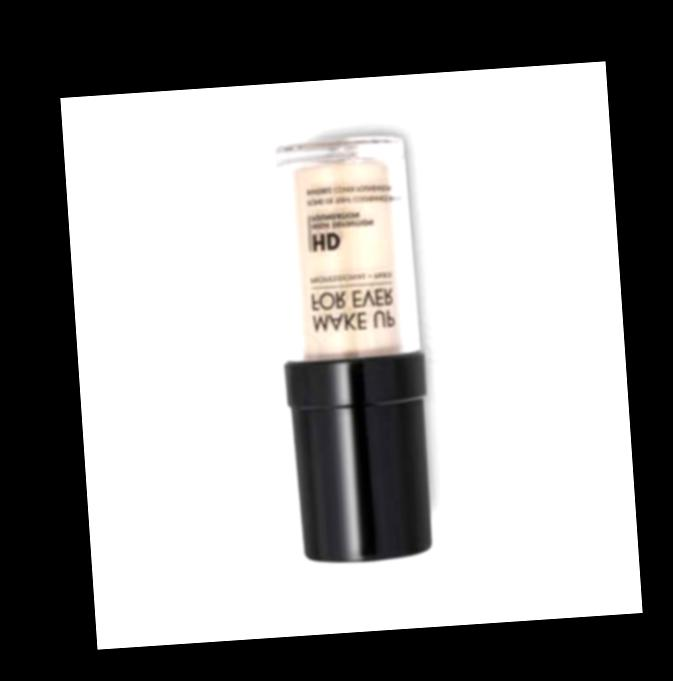cosmetic: (264, 131, 441, 566)
